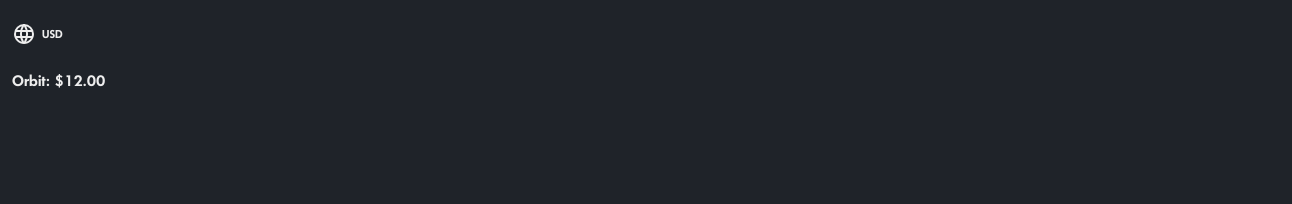
Test: persists selection across a remount and exposes only active currencies with their names and symbols
Later steps or results of the test are not shown.
Expected: the text "Orbit: $12.00" is shown, [12,73,105,89]
Click the button with aria-label "Choose currency" at (37, 34), box [12,12,63,56]
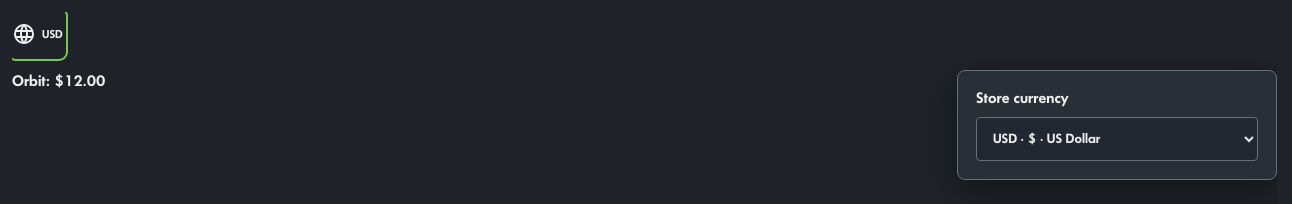
Select "JPY · ¥ · Yen" in the dropdown at (1117, 139), box [976,117,1258,161]
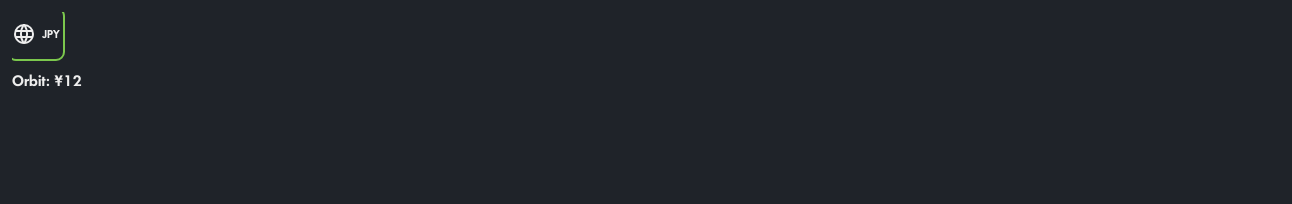
Expected: the text "Orbit: ¥12" is shown, [12,73,82,89]
Expected: the text "JPY" is shown, [42,27,60,41]
